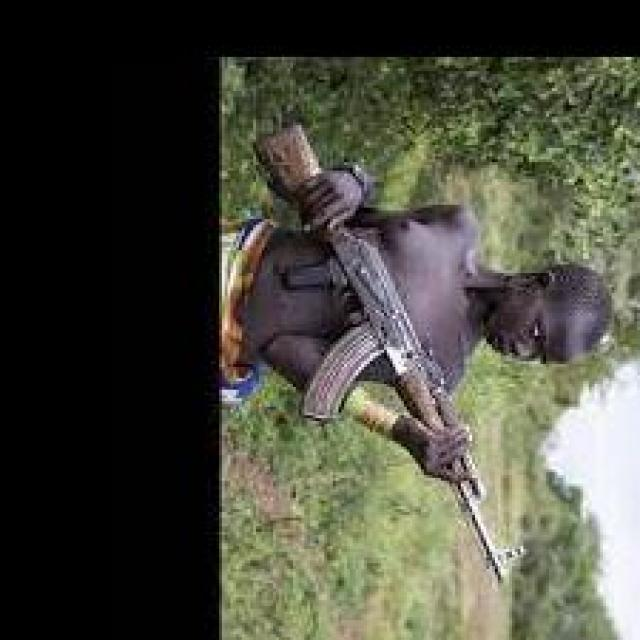weapon: (252, 122, 528, 586)
